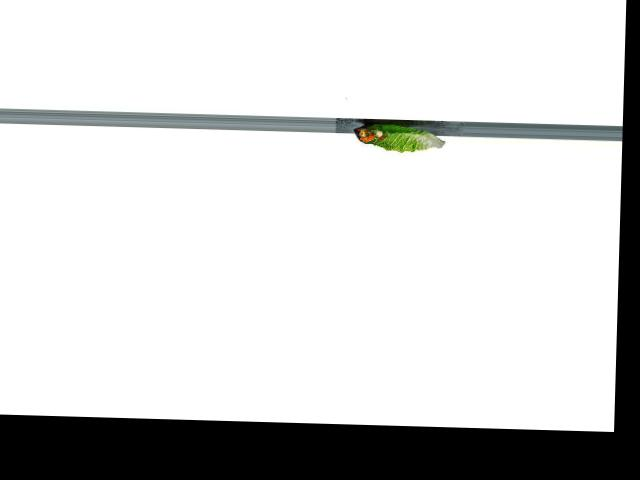lettuce: (349, 118, 447, 156)
